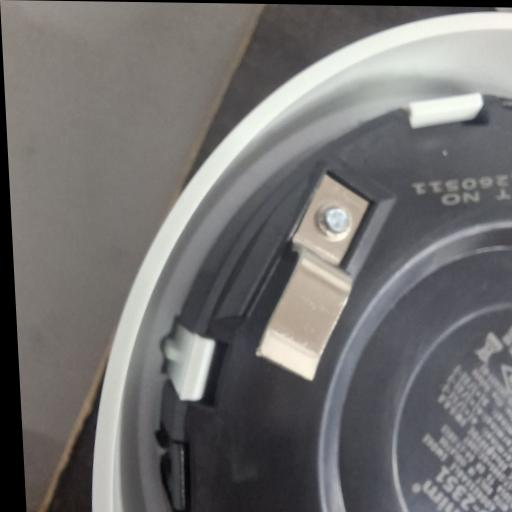yaysiz: (244, 169, 383, 385)
